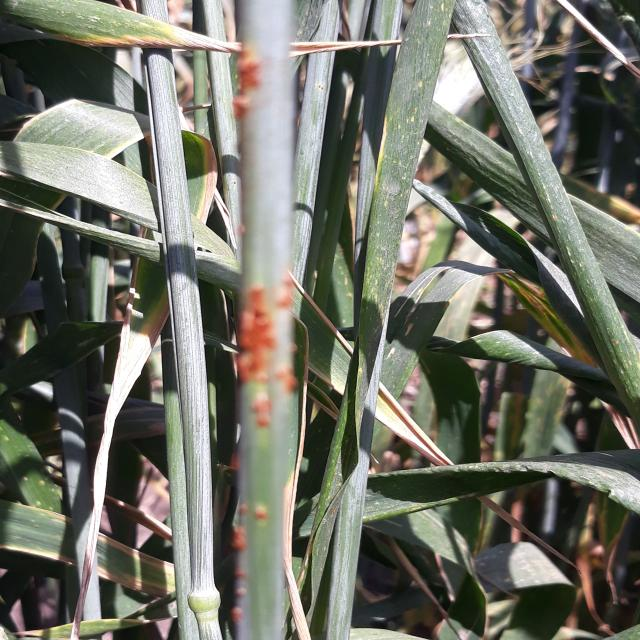black_stem_rust: (205, 0, 326, 640)
